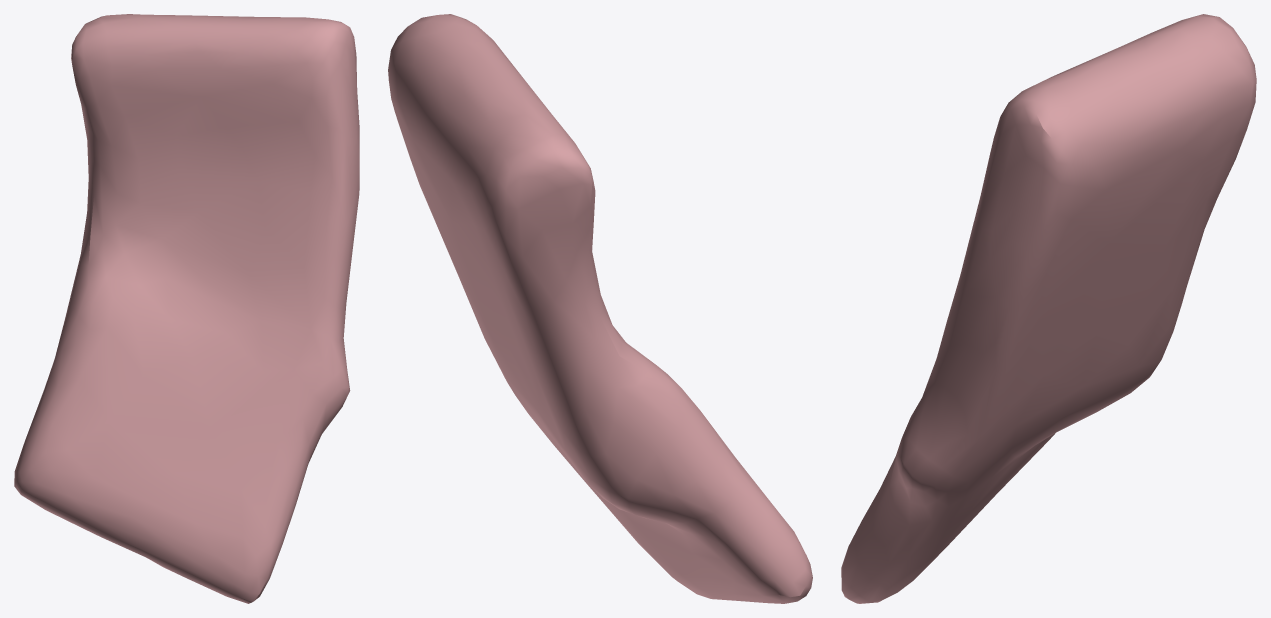
Rendered from fma275341_mm3764.glb.
The picture shows the model from 3 angles, left to right: view 1: azimuth 30°, elevation 25°; view 2: azimuth 150°, elevation 25°; view 3: azimuth 270°, elevation 25°; orthographic projection. The views are drawn at different scales.
Visible parts, largest first — view 1: FMA275341_MM3764; view 2: FMA275341_MM3764; view 3: FMA275341_MM3764.
Boxes of the visible parts, bbox=[...] form: FMA275341_MM3764: bbox=[14, 14, 359, 603]; FMA275341_MM3764: bbox=[388, 14, 812, 603]; FMA275341_MM3764: bbox=[841, 14, 1256, 603].
Bounding box in the file's own units: 0.0142 × 0.0196 × 0.0124.
